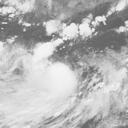cyclone: (23, 61, 78, 117)
